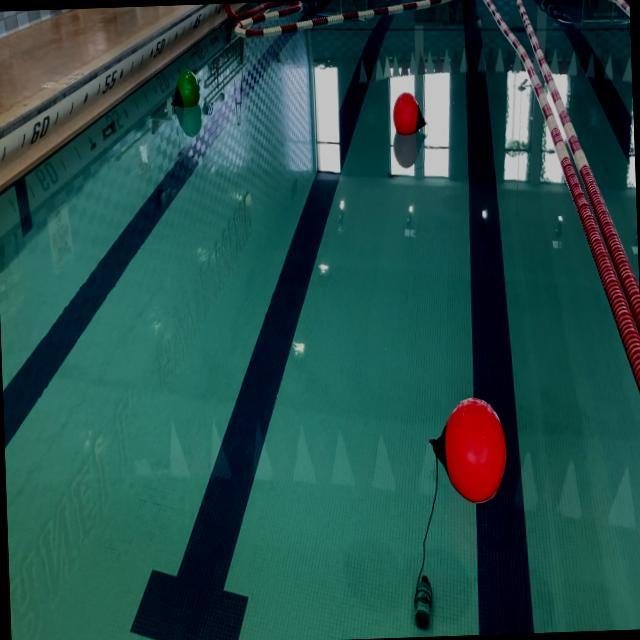buoy: (428, 394, 508, 504), (392, 92, 428, 137), (172, 70, 200, 108)
